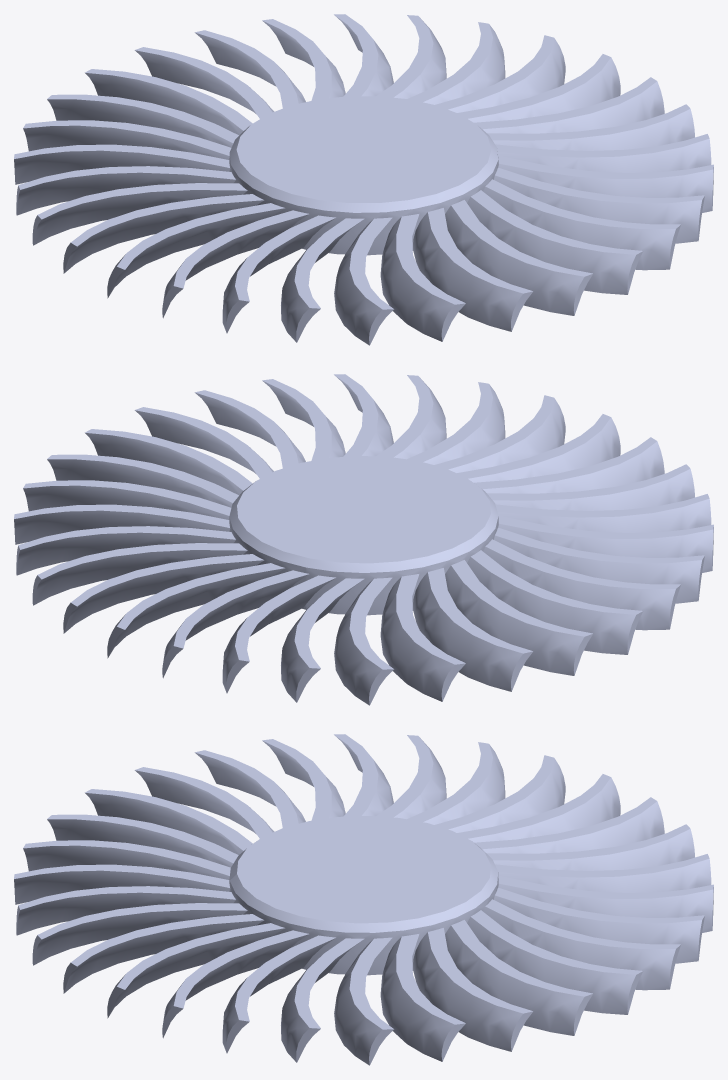
The model's file is fan_2.dae.
The picture shows the model from 3 angles, top to bottom: view 1: azimuth 30°, elevation 25°; view 2: azimuth 150°, elevation 25°; view 3: azimuth 270°, elevation 25°; orthographic projection.
Parts seen in each view (by area): view 1: fan_2; view 2: fan_2; view 3: fan_2.
Part boxes in pixels (x1,y1,x2,y2): fan_2: (14,14,713,345); fan_2: (14,374,713,705); fan_2: (14,734,713,1065).
Size of the model in its own units: 0.7799 by 0.06 by 0.7799.
